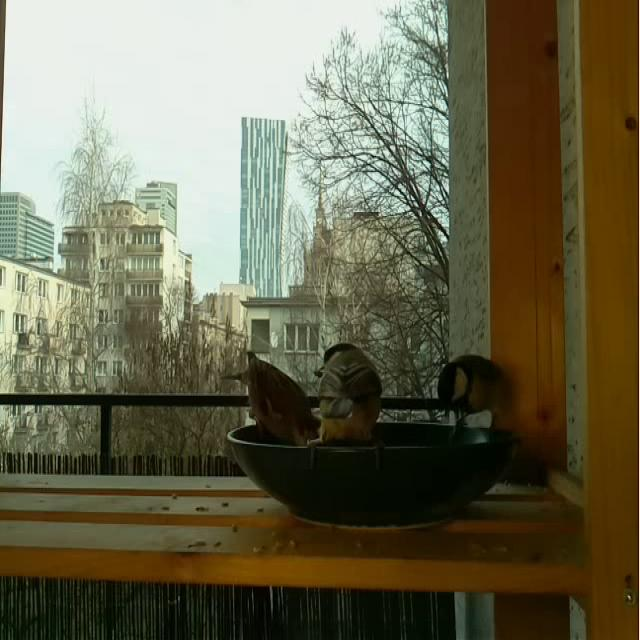Bogatka: (319, 337, 385, 452), (436, 350, 516, 438)
Wrobel: (227, 349, 317, 448)
